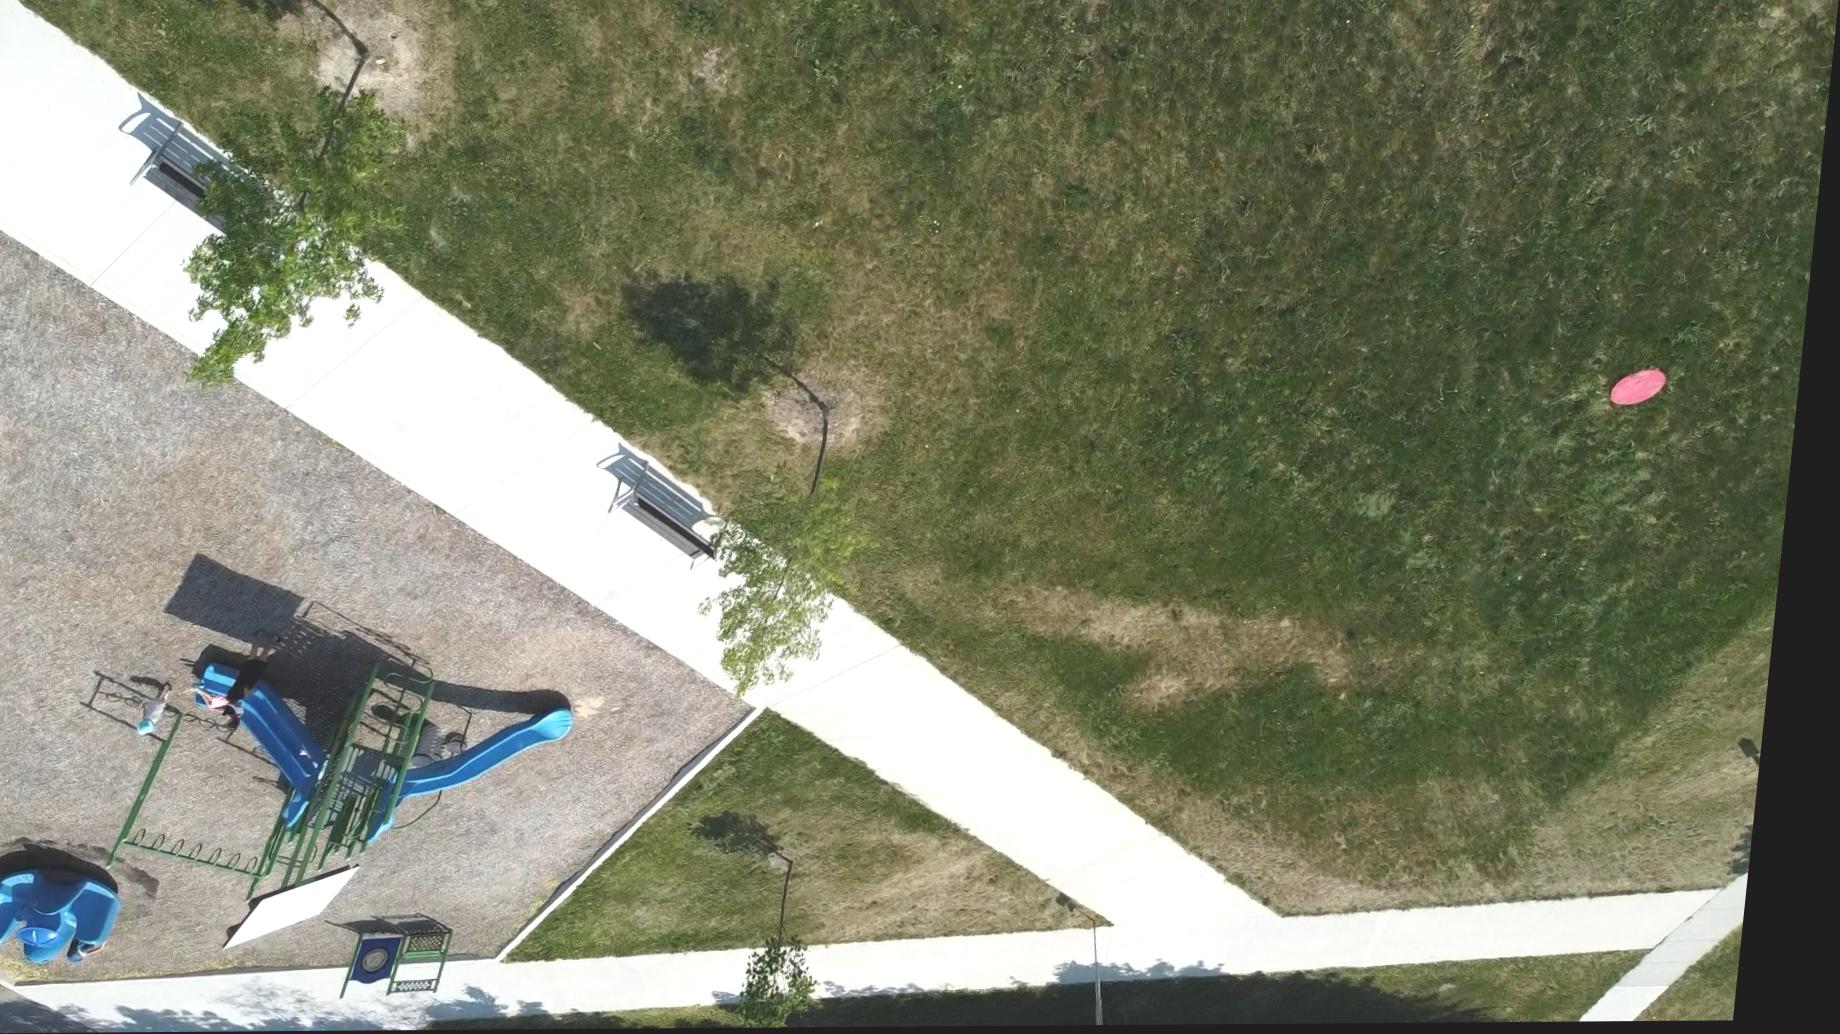Red: (1615, 367, 1677, 413)
